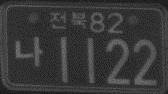1: (85, 35, 97, 85), (58, 35, 70, 84)
2: (131, 37, 158, 87), (104, 37, 132, 85), (106, 11, 123, 34)
8: (89, 11, 104, 33)
나: (14, 36, 43, 67)
전북_O: (49, 10, 87, 31)
